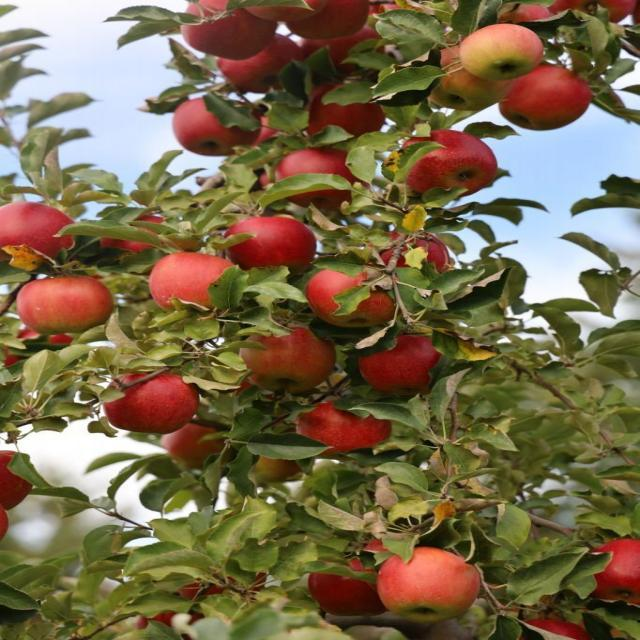Red Apple: (385, 544, 488, 620), (425, 44, 527, 113), (393, 129, 496, 197), (248, 328, 345, 396), (508, 60, 596, 133), (109, 369, 206, 434), (269, 144, 366, 209), (309, 266, 406, 327), (184, 1, 285, 59), (18, 280, 116, 338), (313, 556, 401, 619), (358, 335, 446, 398), (292, 84, 384, 144), (169, 93, 264, 151), (220, 219, 309, 277), (301, 399, 391, 453), (1, 200, 79, 261), (215, 37, 307, 87), (367, 227, 452, 280), (302, 29, 390, 79), (155, 253, 234, 308), (587, 537, 640, 606), (101, 211, 174, 261), (467, 26, 545, 72), (290, 1, 365, 45), (11, 330, 85, 372), (173, 420, 234, 465), (1, 446, 44, 508), (241, 1, 324, 27), (517, 611, 589, 640)
